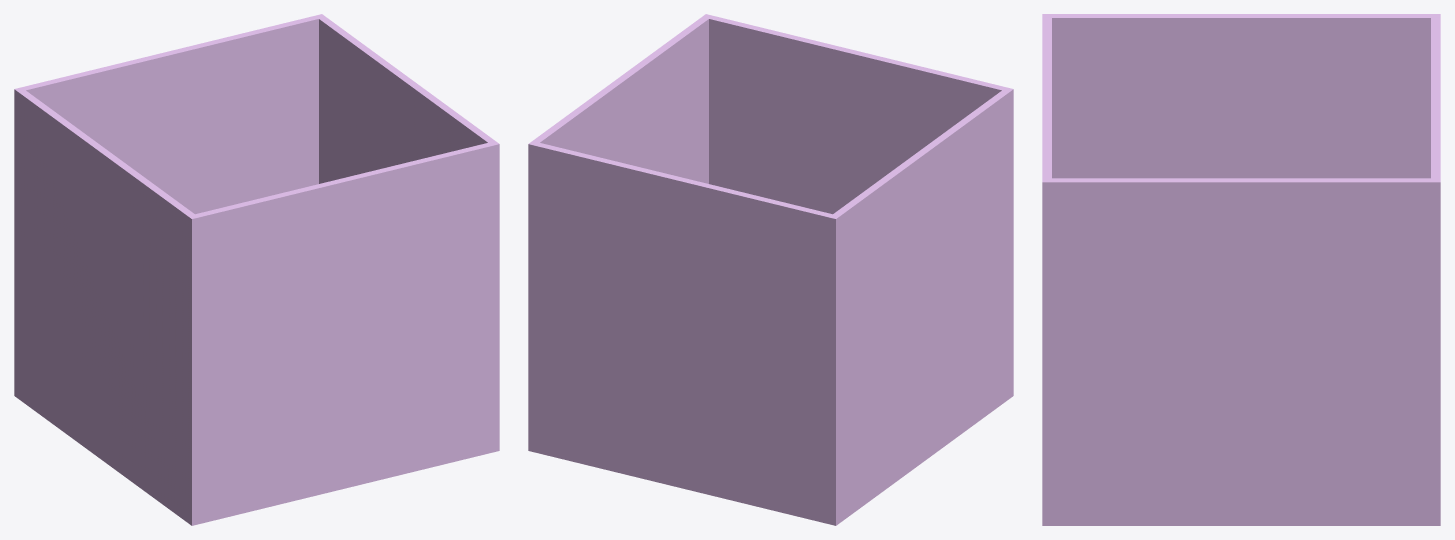
Rendered from Room.fbx.
The picture shows the model from 3 angles, left to right: view 1: azimuth 30°, elevation 25°; view 2: azimuth 150°, elevation 25°; view 3: azimuth 270°, elevation 25°; orthographic projection. The views are drawn at different scales.
Parts seen in each view (by area): view 1: Wall_B, Wall_F; view 2: Wall_F, Wall_B; view 3: Wall_F, Wall_B.
Part boxes in pixels (x1,y1,x2,y2): Wall_B: [18, 90, 492, 525]; Wall_F: [14, 14, 499, 452]; Wall_F: [528, 14, 840, 525]; Wall_B: [709, 16, 1013, 522]; Wall_F: [1042, 14, 1440, 525]; Wall_B: [1042, 14, 1430, 178].
Size of the model in its own units: 1050 by 1000 by 1050.
